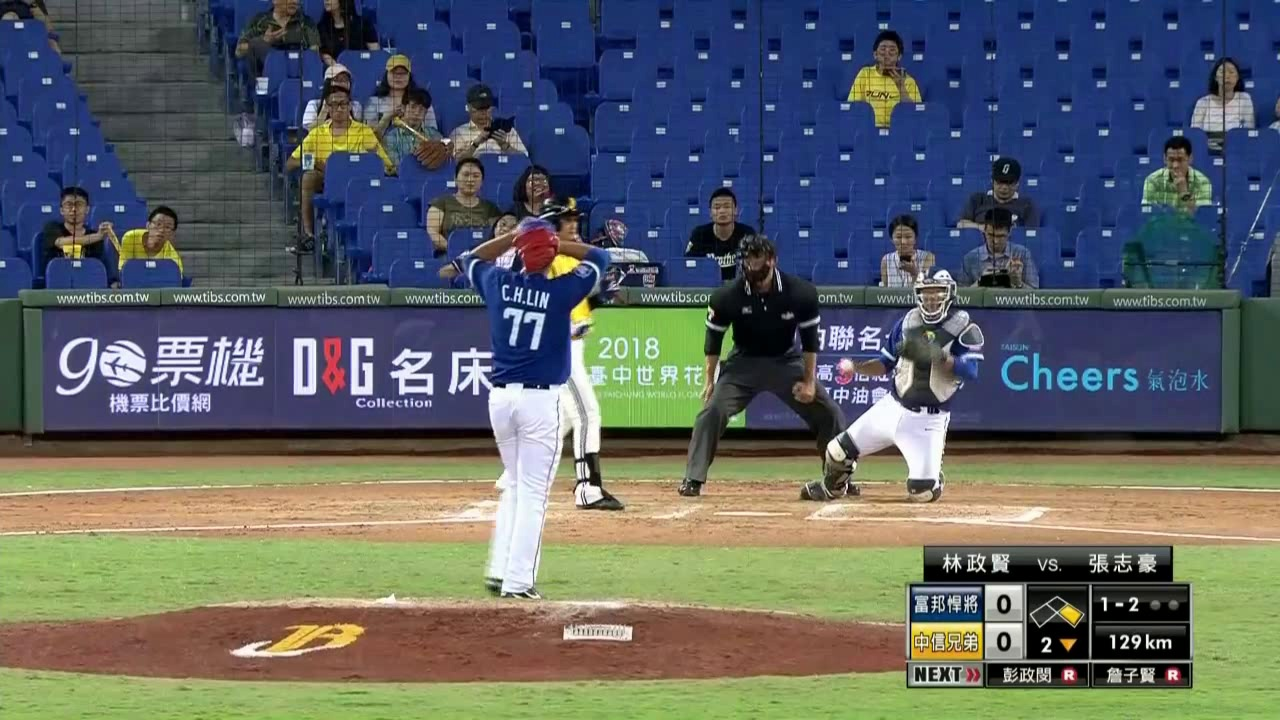ball: (836, 357, 856, 375)
base: (1029, 593, 1086, 630)
out: (1146, 589, 1184, 622)
score1: (986, 588, 1022, 619)
score2: (986, 623, 1020, 656)
session: (1029, 632, 1084, 659)
speed: (1099, 627, 1186, 656)
strikeball: (1091, 588, 1146, 618)
